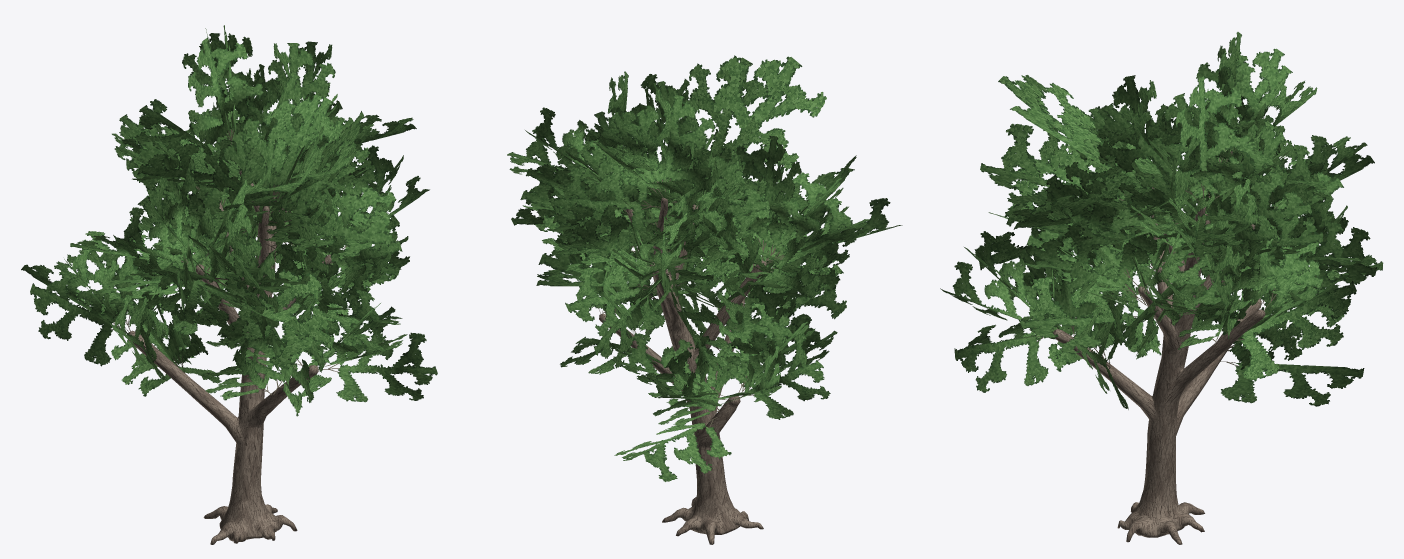
The model's file is environment_elm6_v72.fbx.
3 renders of one model, left to right at view 1: azimuth 30°, elevation 25°; view 2: azimuth 150°, elevation 25°; view 3: azimuth 270°, elevation 25°, orthographic. The views are drawn at different scales.
Parts seen in each view (by area): view 1: environment_elm6_v72_lod0; view 2: environment_elm6_v72_lod0; view 3: environment_elm6_v72_lod0.
Boxes of the visible parts, x1=… form: environment_elm6_v72_lod0: x1=21, y1=25, x2=437, y2=544; environment_elm6_v72_lod0: x1=507, y1=55, x2=902, y2=544; environment_elm6_v72_lod0: x1=940, y1=32, x2=1383, y2=544.
Size of what is drawn, in the model's own units: 2279 by 2718 by 2222.
Materials: 2 (2 with a texture image).
